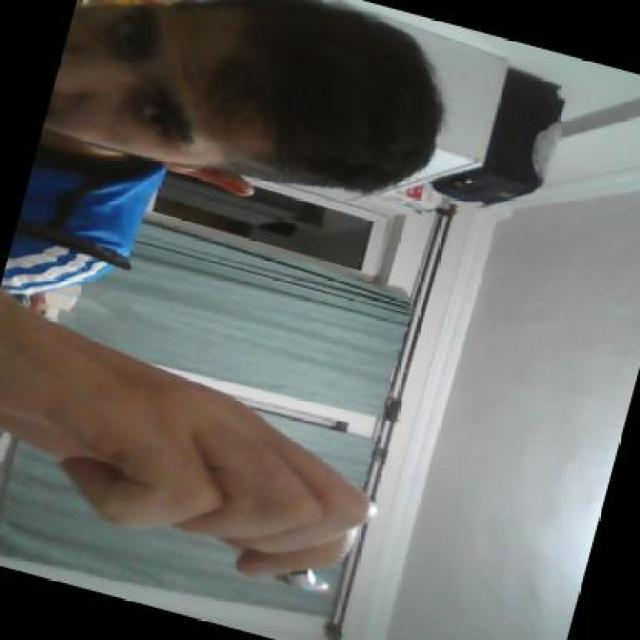Fire: (300, 570, 340, 610)
